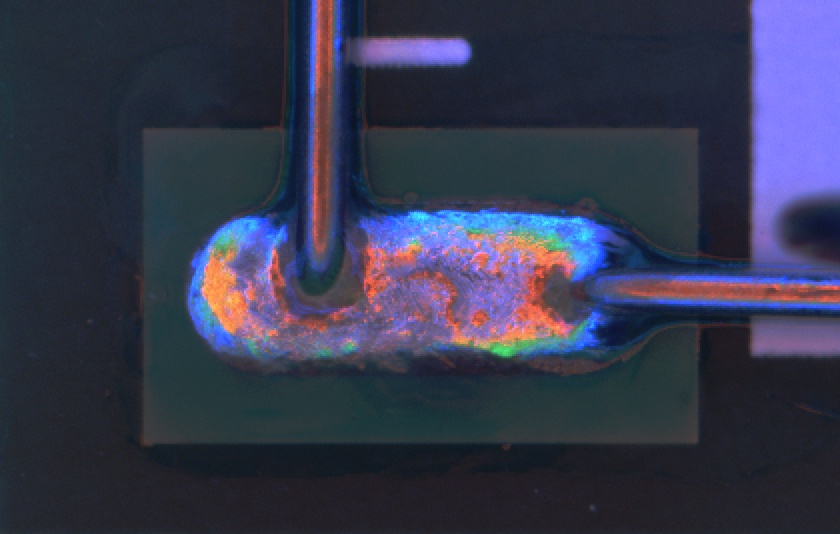spring: (291, 1, 356, 297), (557, 261, 838, 322)
spring_pin: (188, 209, 661, 372)
